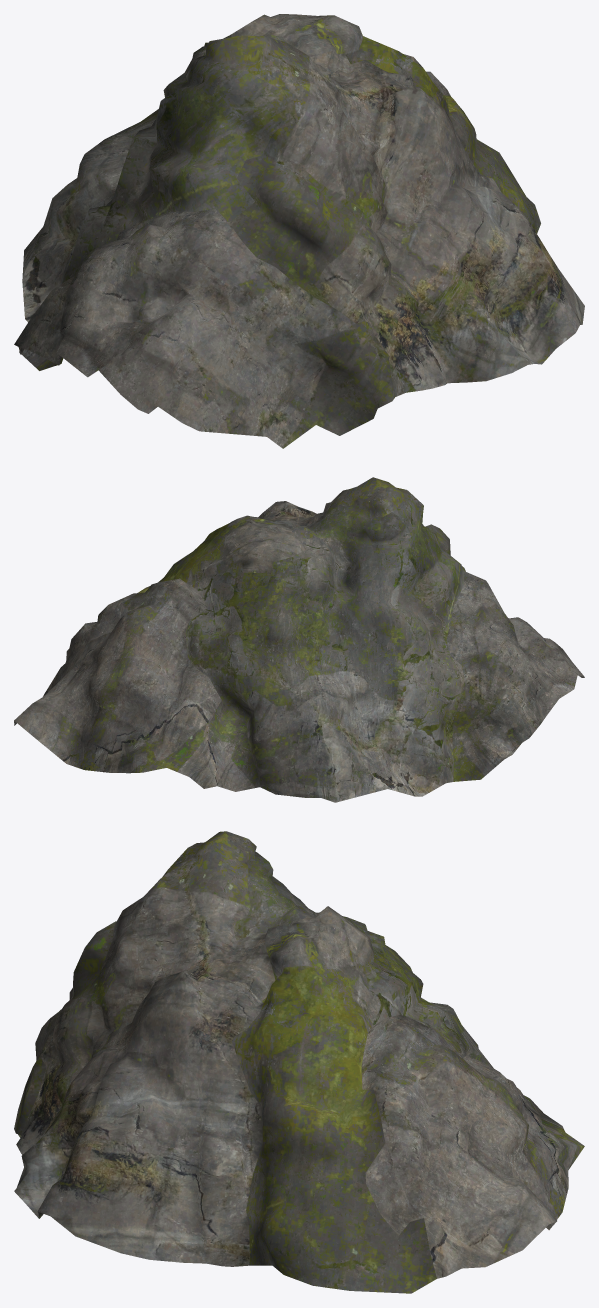
File: Rock19.fbx
The picture shows the model from 3 angles, top to bottom: view 1: azimuth 30°, elevation 25°; view 2: azimuth 150°, elevation 25°; view 3: azimuth 270°, elevation 25°; orthographic projection. The views are drawn at different scales.
Parts seen in each view (by area): view 1: LV_Campagna_Rock_NForestArea01_SM_HSH; view 2: LV_Campagna_Rock_NForestArea01_SM_HSH; view 3: LV_Campagna_Rock_NForestArea01_SM_HSH.
Part boxes in pixels (box(x1,y1,x2,y2)): LV_Campagna_Rock_NForestArea01_SM_HSH: box(14, 14, 584, 448); LV_Campagna_Rock_NForestArea01_SM_HSH: box(14, 477, 584, 802); LV_Campagna_Rock_NForestArea01_SM_HSH: box(14, 831, 584, 1293).
Size of the model in its own units: 7.9 by 4.34 by 7.27.
1 material, 1 textured.
